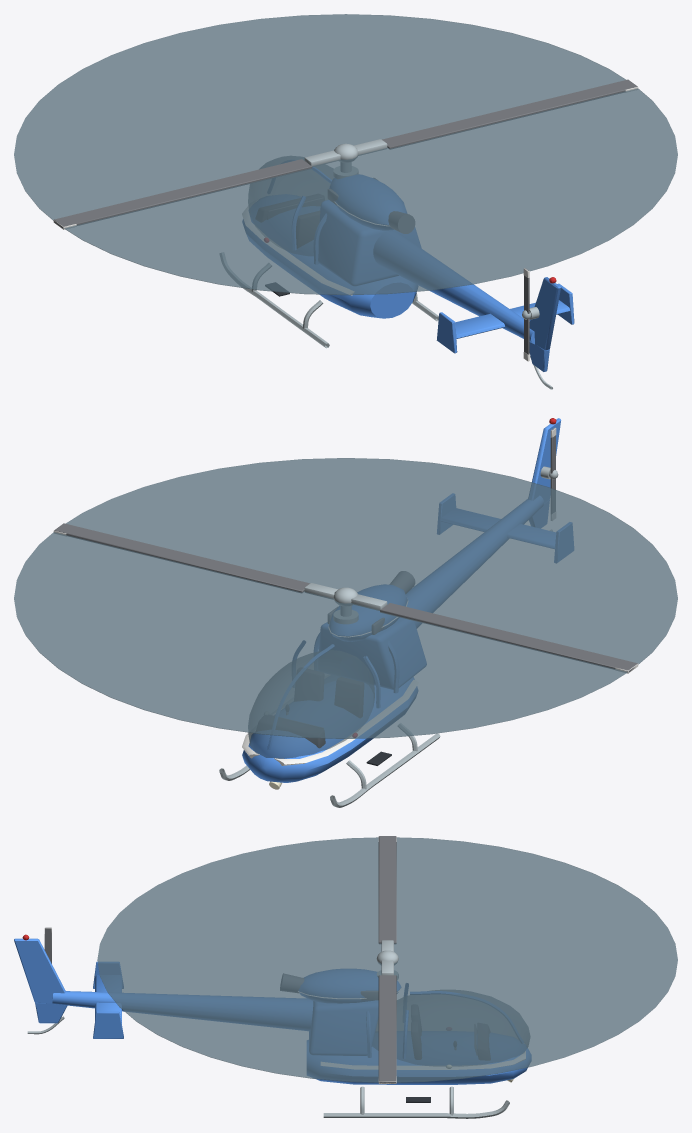
Rendered from Helicopter.fbx.
3 views of the same model, one above another, from view 1: azimuth 30°, elevation 25°; view 2: azimuth 150°, elevation 25°; view 3: azimuth 270°, elevation 25° (orthographic). The views are drawn at different scales.
Parts seen in each view (by area): view 1: Disc__glass, Body__paint, Rotor__engine, Body__metal, Body__glass, Rotor__metal, Body__white, Body__engine; view 2: Disc__glass, Body__paint, Rotor__engine, Body__glass, Body__metal, Body__white, Rotor__metal; view 3: Disc__glass, Body__paint, Rotor__engine, Body__glass, Body__metal, Body__white, Rotor__metal, Body__engine.
Boxes of the visible parts, x1,y1,x2,y2 form: Disc__glass: [14, 14, 677, 295]; Body__paint: [242, 167, 574, 371]; Rotor__engine: [54, 79, 637, 228]; Body__metal: [220, 162, 552, 389]; Body__glass: [248, 156, 333, 214]; Rotor__metal: [304, 139, 387, 166]; Body__white: [242, 202, 386, 295]; Body__engine: [328, 178, 414, 233]; Disc__glass: [14, 458, 677, 738]; Body__paint: [242, 418, 573, 782]; Rotor__engine: [54, 523, 637, 672]; Body__glass: [248, 650, 374, 758]; Body__metal: [219, 466, 552, 807]; Body__white: [242, 602, 418, 765]; Rotor__metal: [304, 583, 387, 610]; Disc__glass: [97, 837, 677, 1082]; Body__paint: [14, 938, 531, 1084]; Rotor__engine: [378, 836, 396, 1083]; Body__glass: [376, 990, 529, 1047]; Body__metal: [27, 970, 509, 1118]; Body__white: [298, 988, 525, 1069]; Rotor__metal: [376, 940, 398, 975]; Body__engine: [280, 973, 378, 999].
Size of the model in its own units: 10.4 by 3.19 by 11.89.
